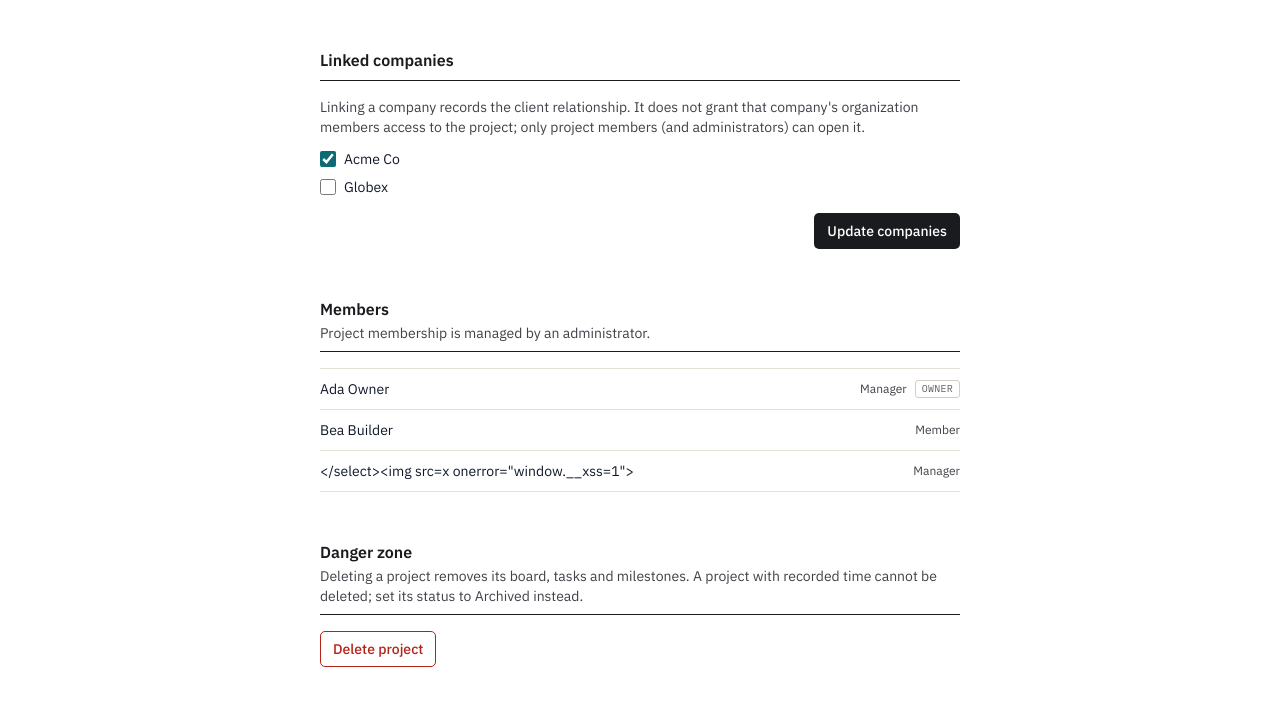
Scenario: shows the recorded-time refusal inside the dialog and keeps the project
(page scrolled)
Click the button "Delete project" at point(378, 649), box [320,631,436,667]
(page scrolled)
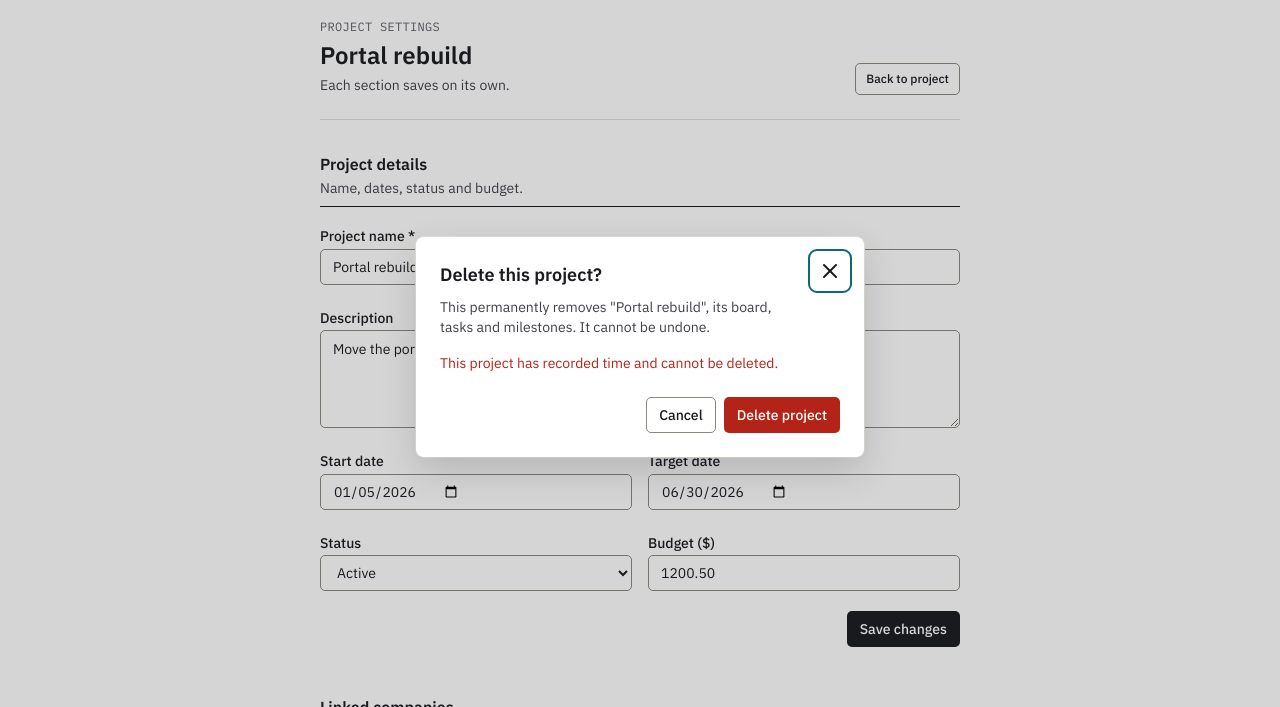
Expected: the field labelled "Project name *" holds "Portal rebuild", [320,249,960,285]
Expected: the message reads "This project has recorded time and cannot be deleted.", [440,354,778,372]
